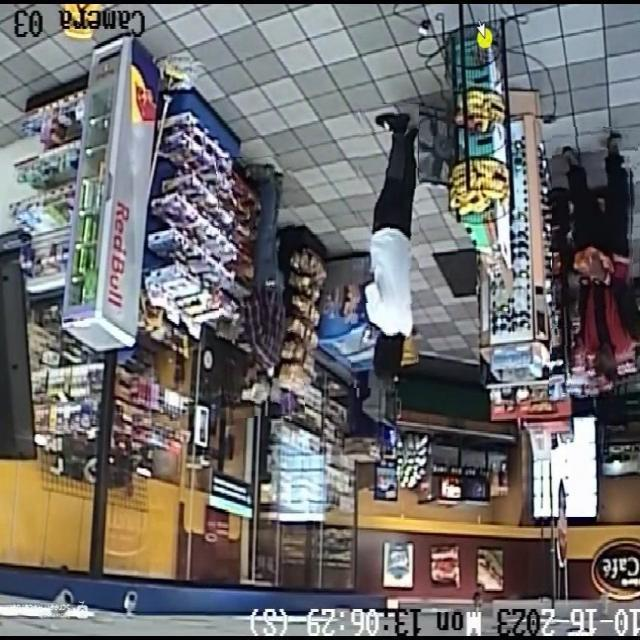Normal: (552, 127, 635, 397), (219, 157, 301, 418), (352, 104, 419, 388)
